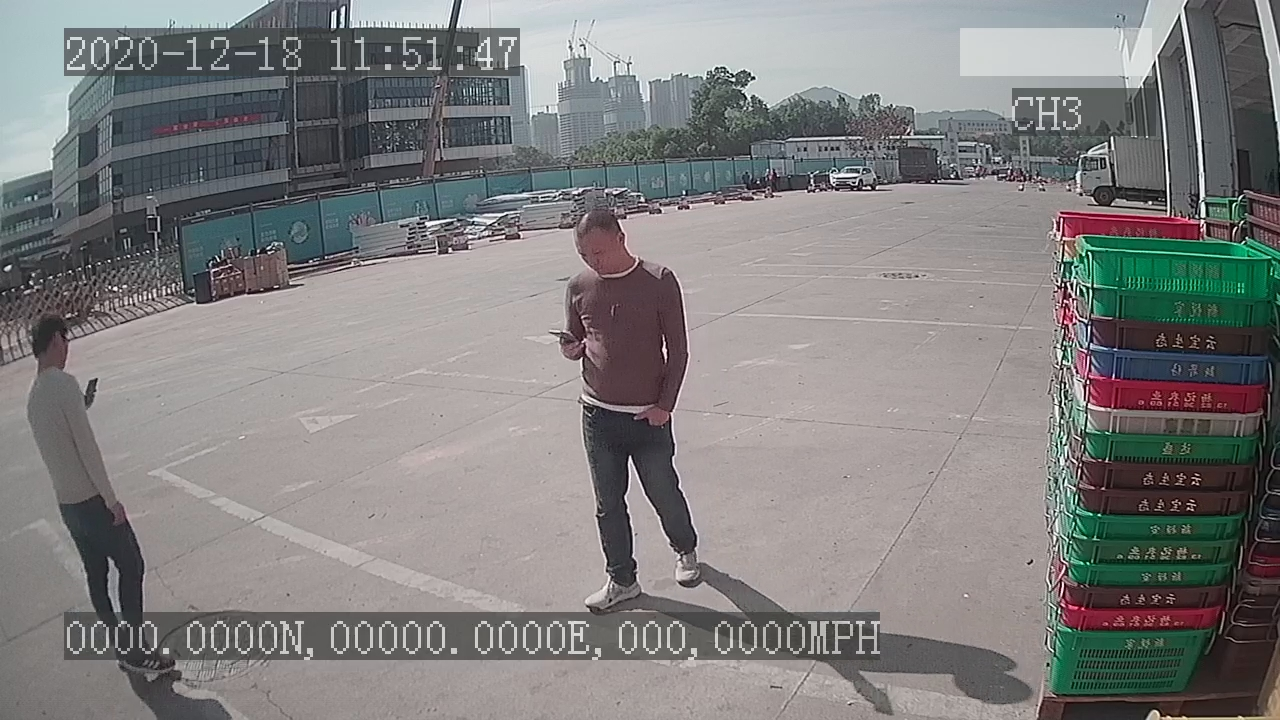person: (540, 204, 709, 613)
